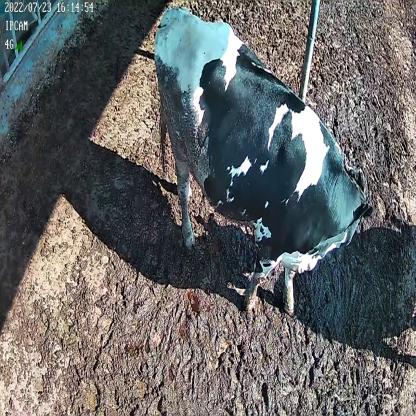cow: (154, 6, 374, 316)
